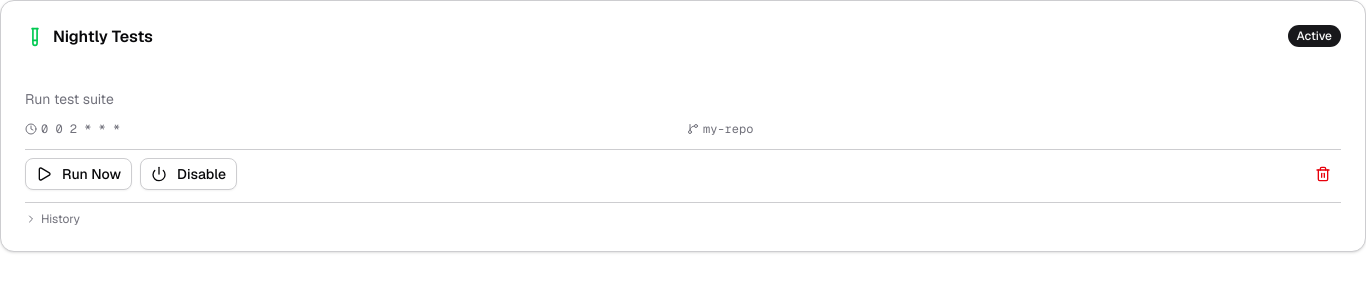
JobCard › toggles history section on click
The image size is (1366, 294).
Click the button "History".
click(60, 219)  # box 25,211 -> 1341,227
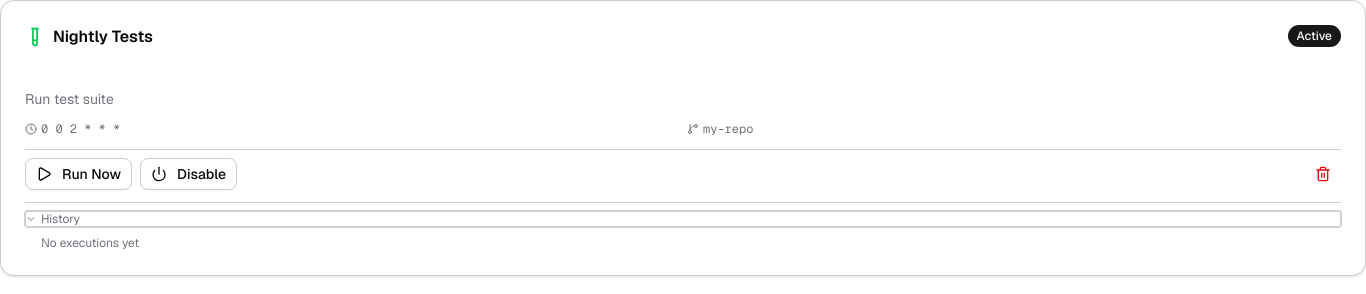
expect the text "No executions yet" is shown: met, box 41,235 -> 139,251
